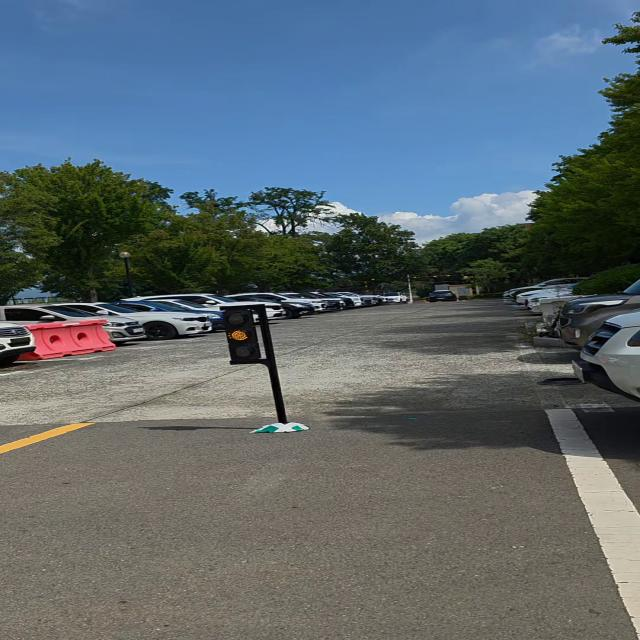yellow: (213, 305, 267, 367)
